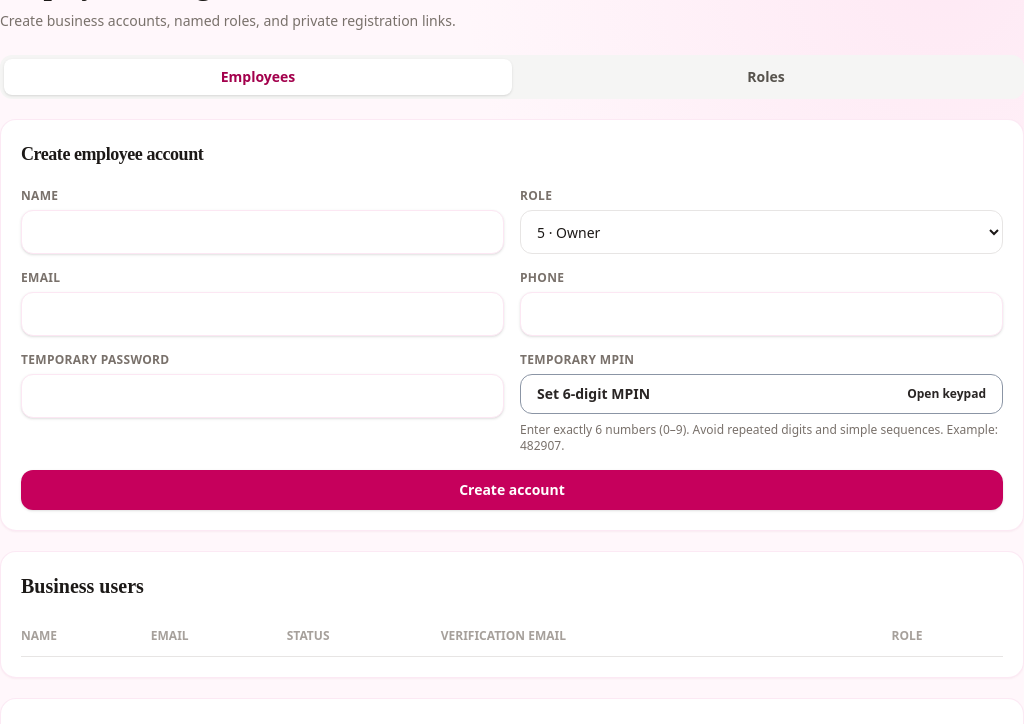
Scenario: shows every permission unchecked for a new role
Click the tab "Roles": (766, 77) [512,59,1020,95]
(page scrolled)
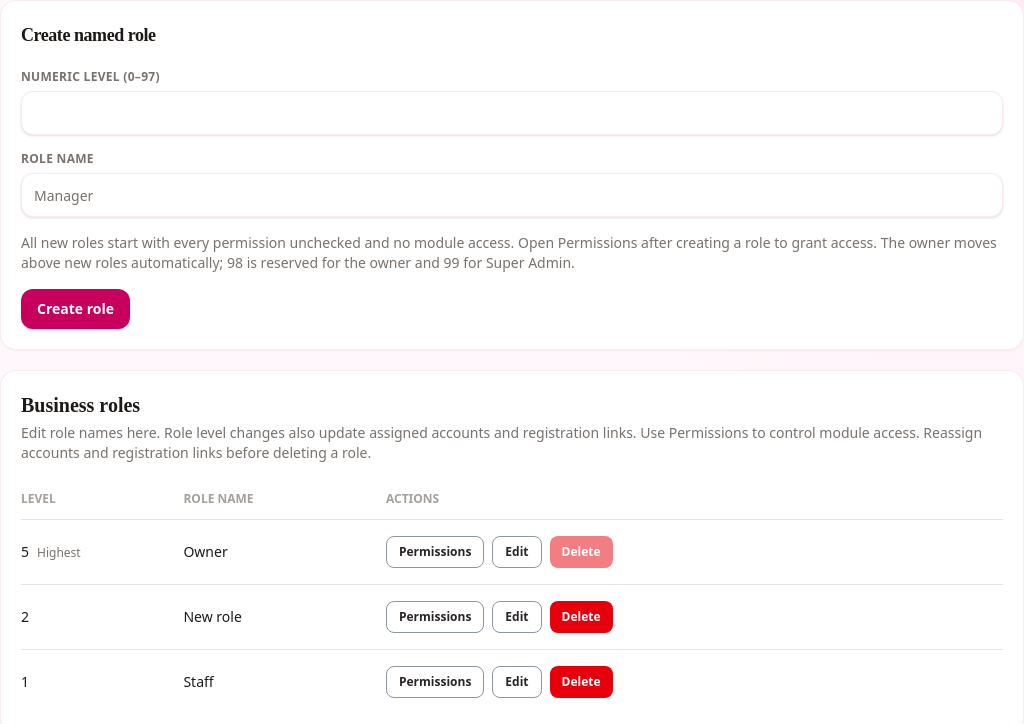
Click the 2nd button "Permissions": (435, 617) [386,601,484,633]
(page scrolled)
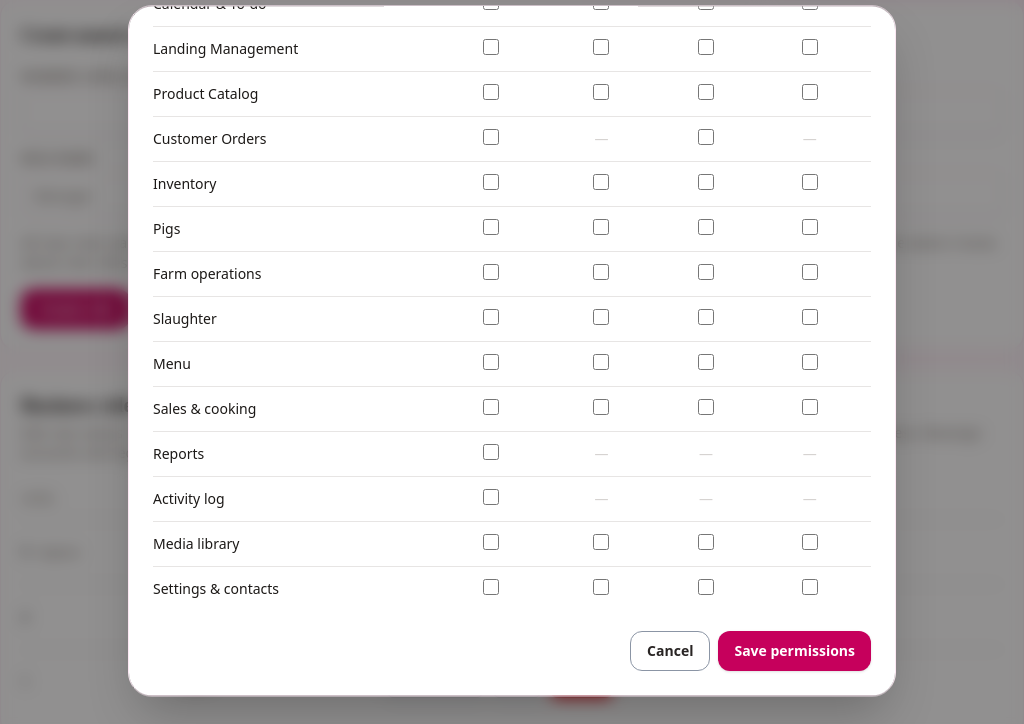
Check: the checkbox named "Landing Management: view" is not checked, box [483,39,499,55]
Check: the checkbox named "Landing Management: create" is not checked, box [593,39,609,55]
Check: the checkbox named "Landing Management: edit" is not checked, box [698,39,714,55]
